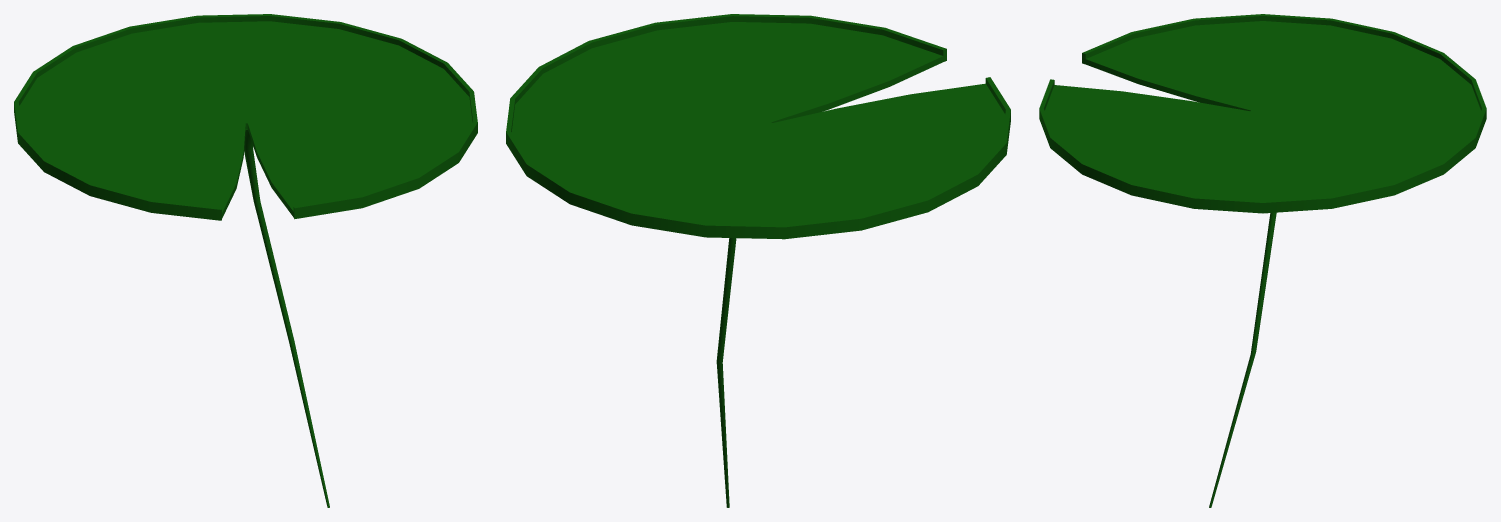
The model's file is Lilly Pad.fbx.
3 renders of one model, left to right at view 1: azimuth 30°, elevation 25°; view 2: azimuth 150°, elevation 25°; view 3: azimuth 270°, elevation 25°, orthographic. The views are drawn at different scales.
Visible parts, largest first — view 1: Lilly_pad; view 2: Lilly_pad; view 3: Lilly_pad.
Part boxes in pixels (bbox=[...]): Lilly_pad: bbox=[14, 14, 477, 507]; Lilly_pad: bbox=[506, 14, 1010, 507]; Lilly_pad: bbox=[1039, 14, 1486, 507].
Size of the model in its own units: 41 by 37.72 by 41.
